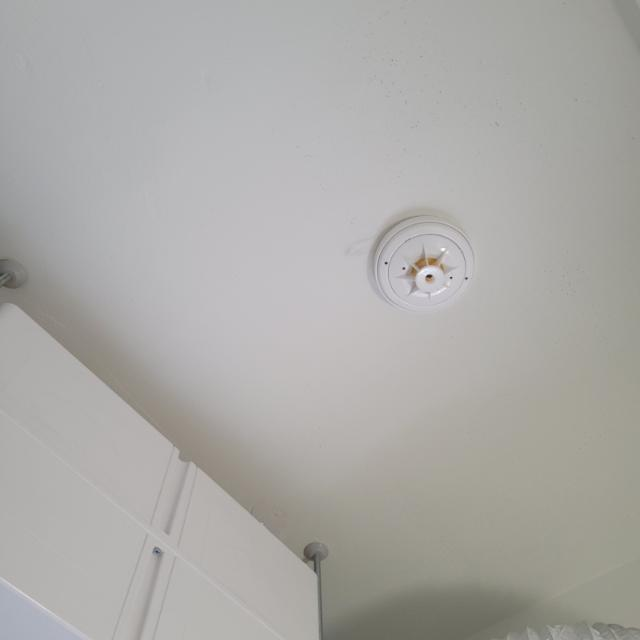Smoke-Detector: (369, 214, 478, 312)
